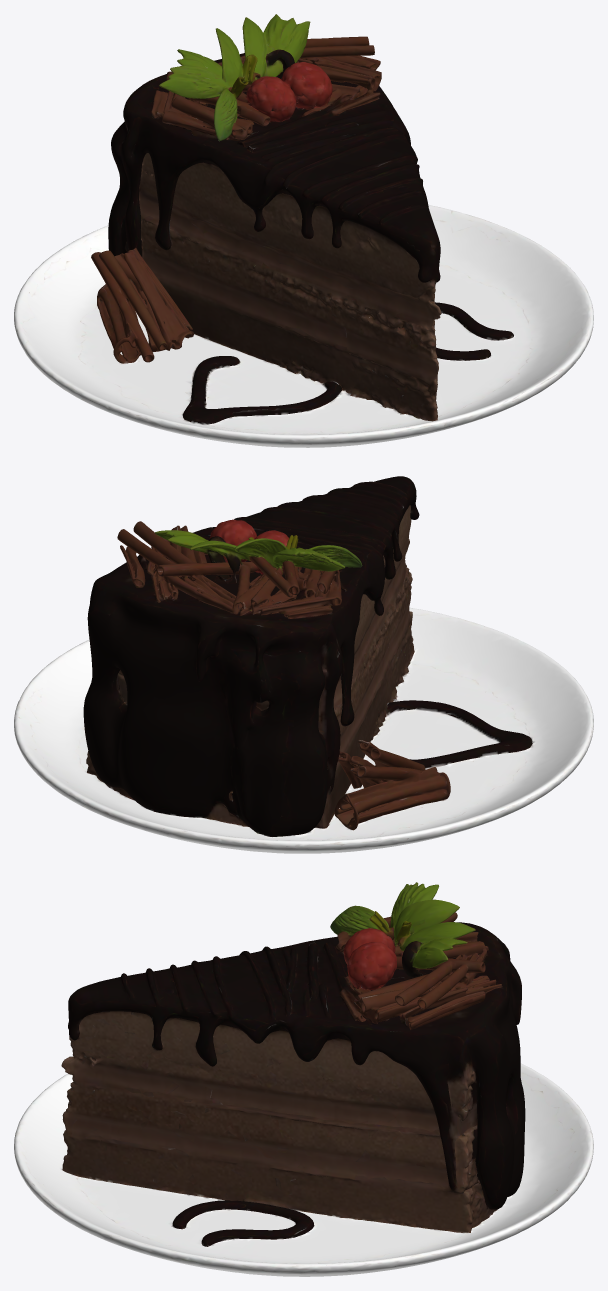
The model's file is sample_2026-11-07T031648.120.glb.
3 views of the same model, one above another, from view 1: azimuth 30°, elevation 25°; view 2: azimuth 150°, elevation 25°; view 3: azimuth 270°, elevation 25° (orthographic).
Visible parts, largest first — view 1: world; view 2: world; view 3: world.
Part boxes in pixels (x1,y1,x2,y2): world: [14, 14, 593, 447]; world: [14, 476, 593, 853]; world: [14, 882, 593, 1276].
Size of the model in its own units: 1 by 0.5163 by 1.
1 material, 1 textured.
